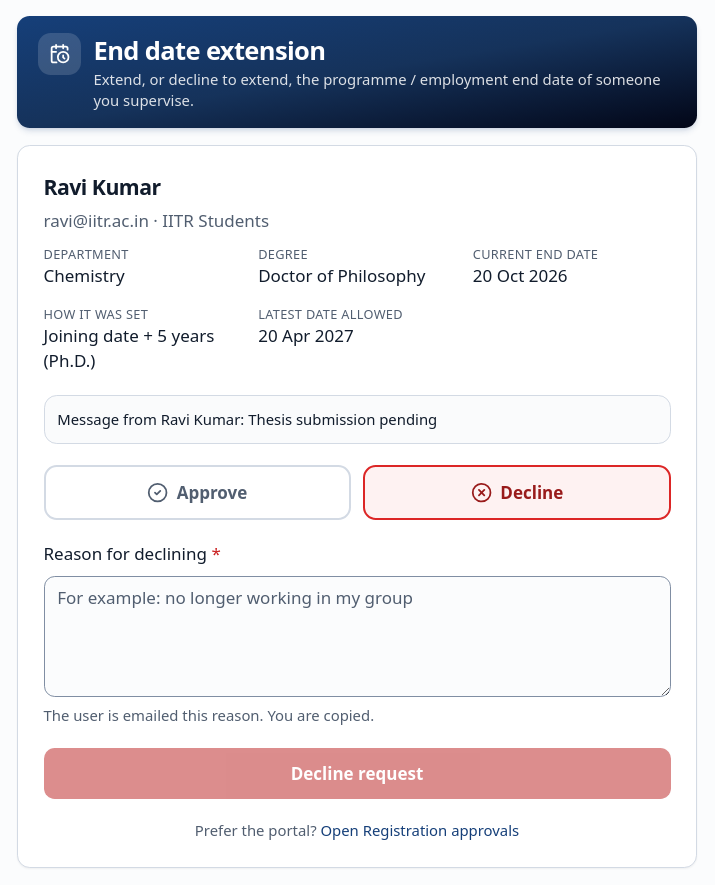
Extension decision from the faculty email › opens on Decline from the email button and requires a reason
Expected: the button "Decline request" is disabled, 44,748 -> 670,799
Type "Left the group" into the text box labelled "Reason for declining *" at (357, 636), box 44,576 -> 670,697
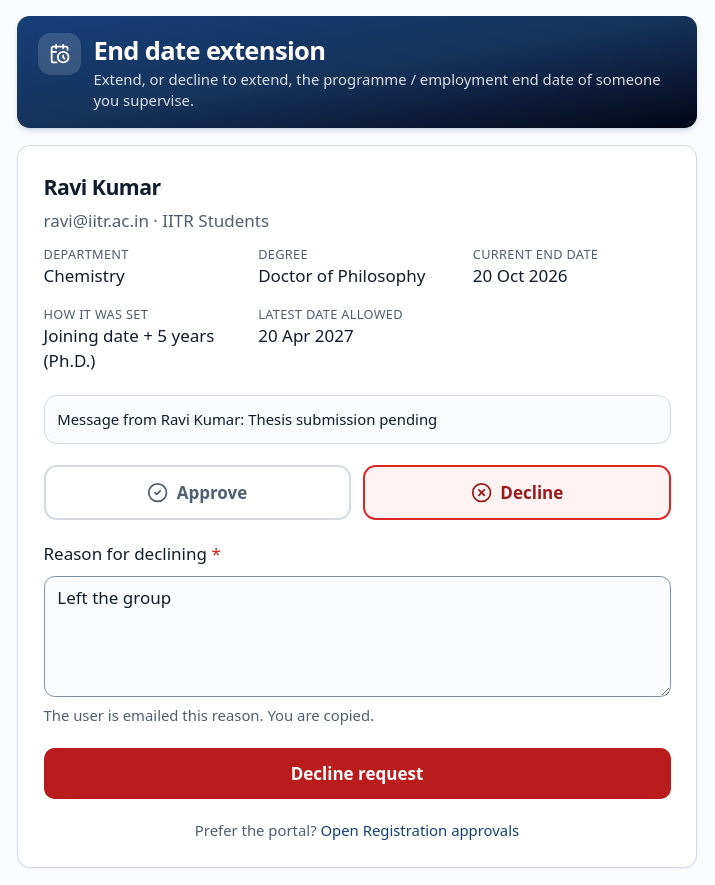
Click the button "Decline request" at (357, 773), box 44,748 -> 670,799
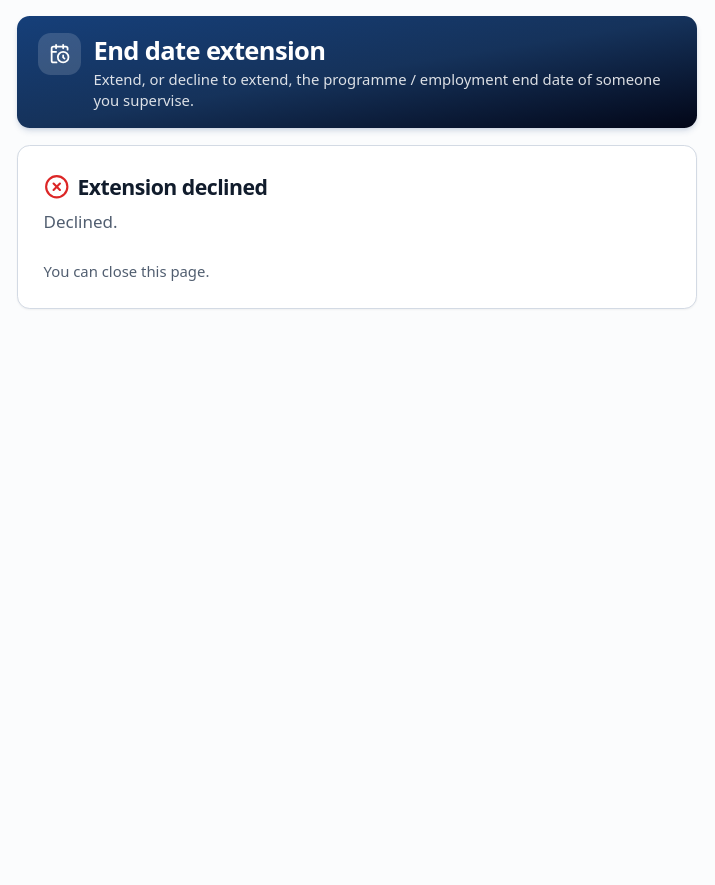
Now the text "Extension declined" is shown, box 44,172 -> 267,201
